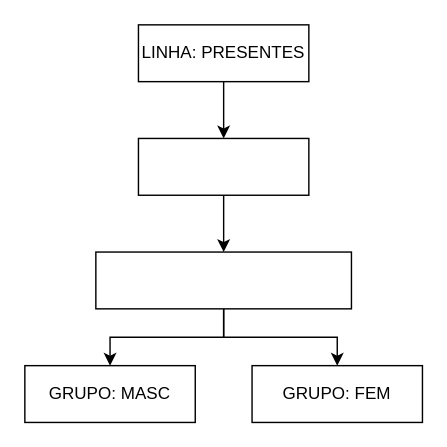
This 447x447 diagram has some shape labels left out. Each missing label, with the centre of its shape:
"FAMILIA: RELOGIOS" goes at (223,166).
"PRODUTO: RELOGIO DE PULSO" goes at (222,280).
